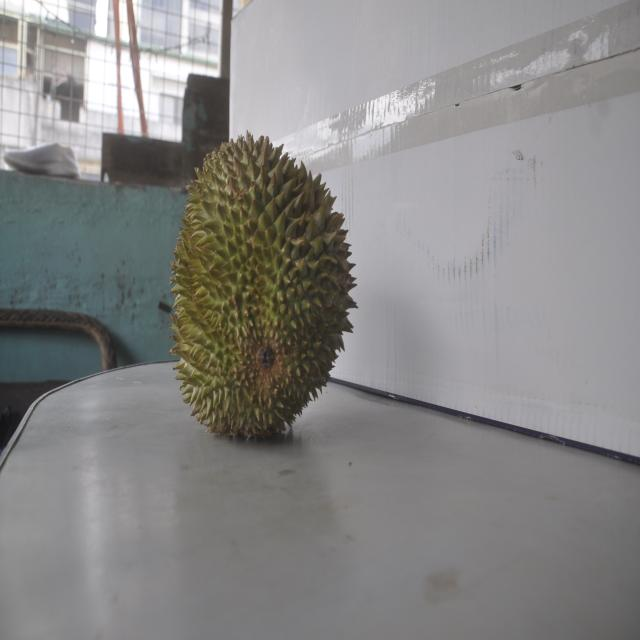mature: (167, 130, 354, 441)
